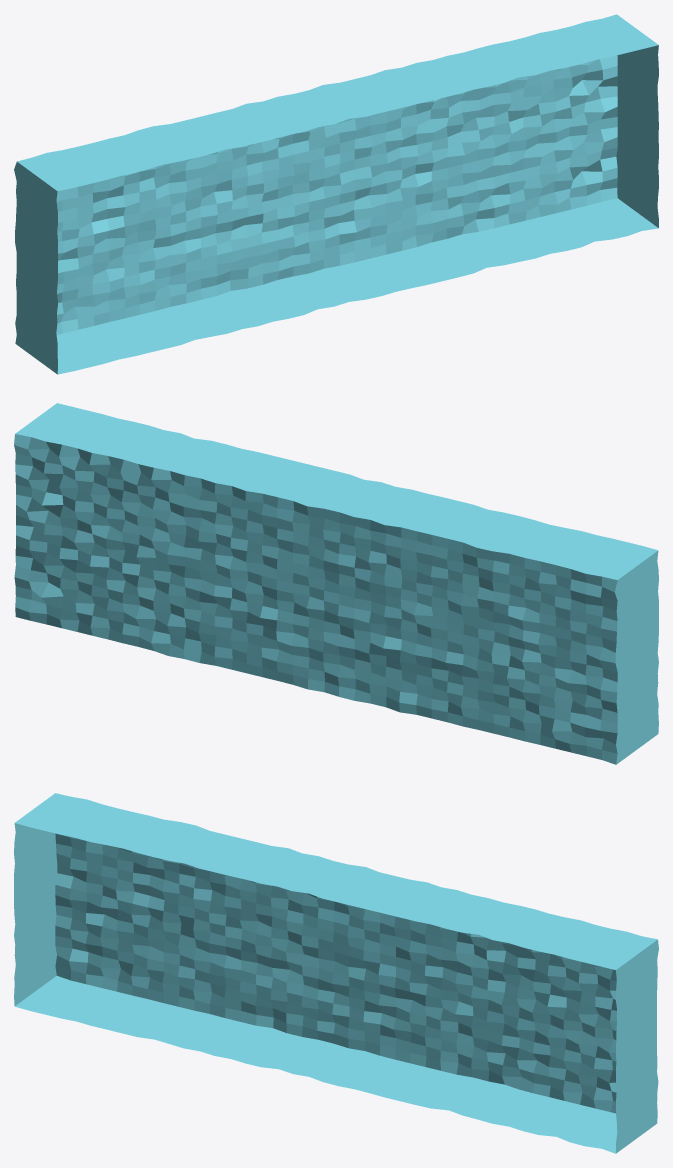
The model's file is Water2.FBX.
The picture shows the model from 3 angles, top to bottom: view 1: azimuth 30°, elevation 25°; view 2: azimuth 150°, elevation 25°; view 3: azimuth 330°, elevation 25°; orthographic projection.
Visible parts, largest first — view 1: Water; view 2: Water; view 3: Water.
Part boxes in pixels (x1,y1,x2,y2): Water: (14, 14, 658, 374); Water: (14, 403, 658, 764); Water: (14, 793, 658, 1153).
Size of the model in its own units: 4312 by 1257 by 578.
